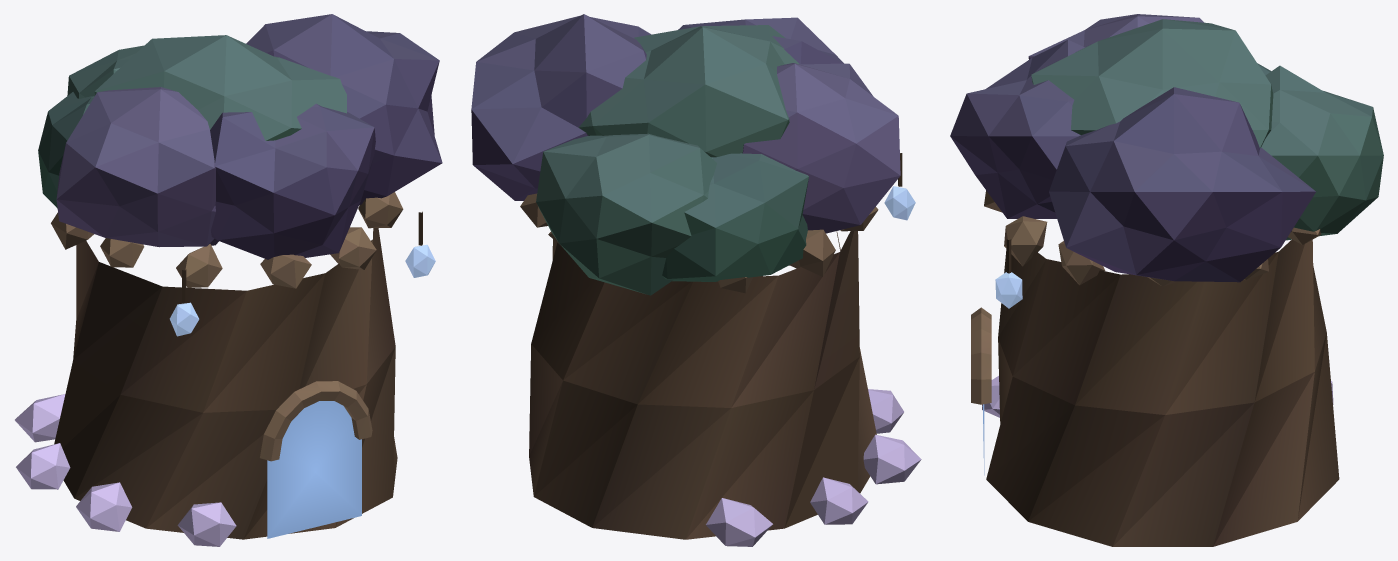
The model's file is dreamb_hollow_blue.glb.
3 renders of one model, left to right at view 1: azimuth 30°, elevation 25°; view 2: azimuth 150°, elevation 25°; view 3: azimuth 270°, elevation 25°, orthographic.
Parts seen in each view (by area): view 1: dreamb_hollow_blue_solid, dreamb_hollow_blue_leaf, dreamb_hollow_blue_glow; view 2: dreamb_hollow_blue_leaf, dreamb_hollow_blue_solid, dreamb_hollow_blue_glow; view 3: dreamb_hollow_blue_solid, dreamb_hollow_blue_leaf, dreamb_hollow_blue_glow.
Boxes of the visible parts, x1,y1,x2,y2 form: dreamb_hollow_blue_solid: [15, 192, 422, 546]; dreamb_hollow_blue_leaf: [38, 14, 442, 259]; dreamb_hollow_blue_glow: [169, 244, 435, 538]; dreamb_hollow_blue_leaf: [471, 14, 900, 295]; dreamb_hollow_blue_solid: [520, 153, 921, 546]; dreamb_hollow_blue_glow: [884, 186, 915, 220]; dreamb_hollow_blue_solid: [971, 190, 1339, 546]; dreamb_hollow_blue_leaf: [950, 14, 1383, 282]; dreamb_hollow_blue_glow: [982, 272, 1022, 475].
Bounding box in the file's own units: 1.49 × 1.6 × 1.41.
